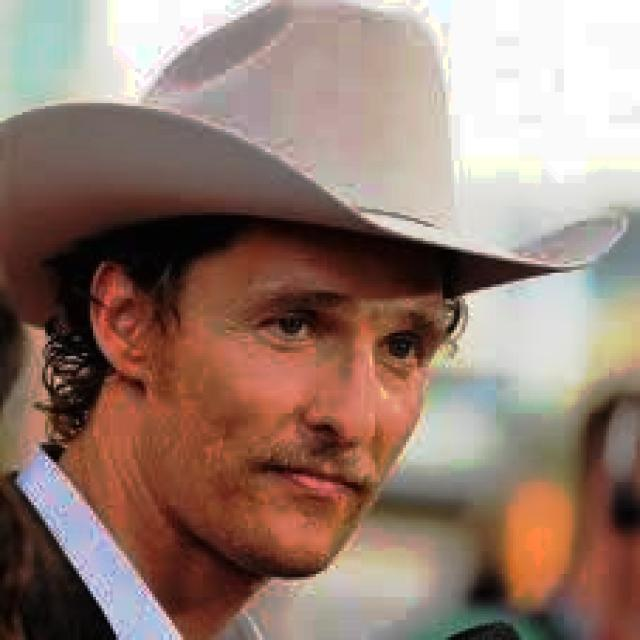TOPI: (0, 0, 628, 321)
